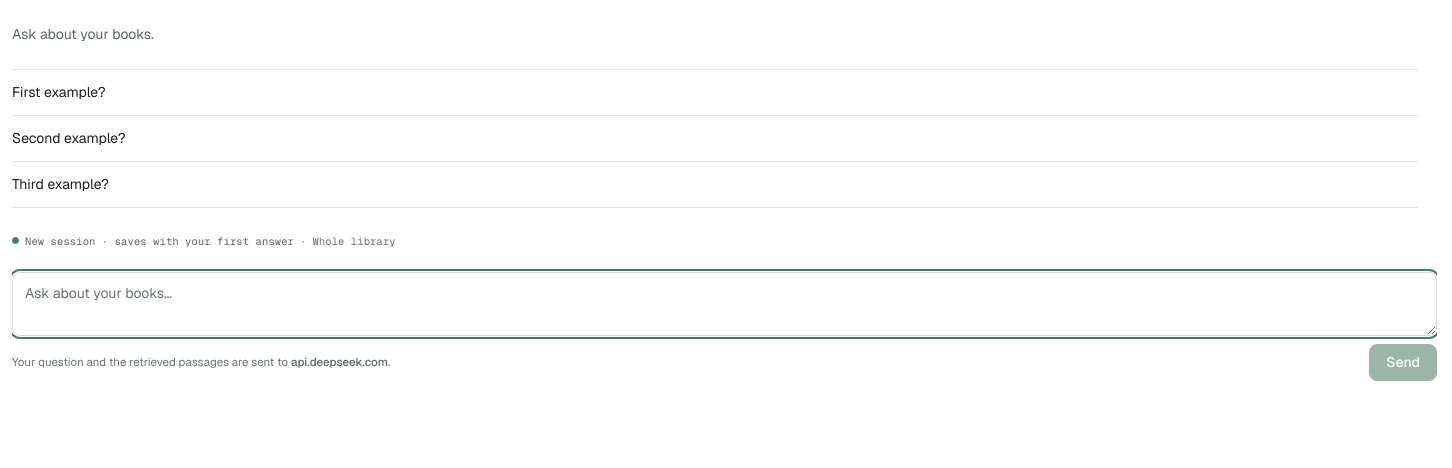
ChatPanel › shows an HTTP error from the server inline
The width and height of the screenshot is (1452, 468).
(page scrolled)
Type "Explain." into the text box named "Your question" at (724, 304), box [12,272,1437,336]
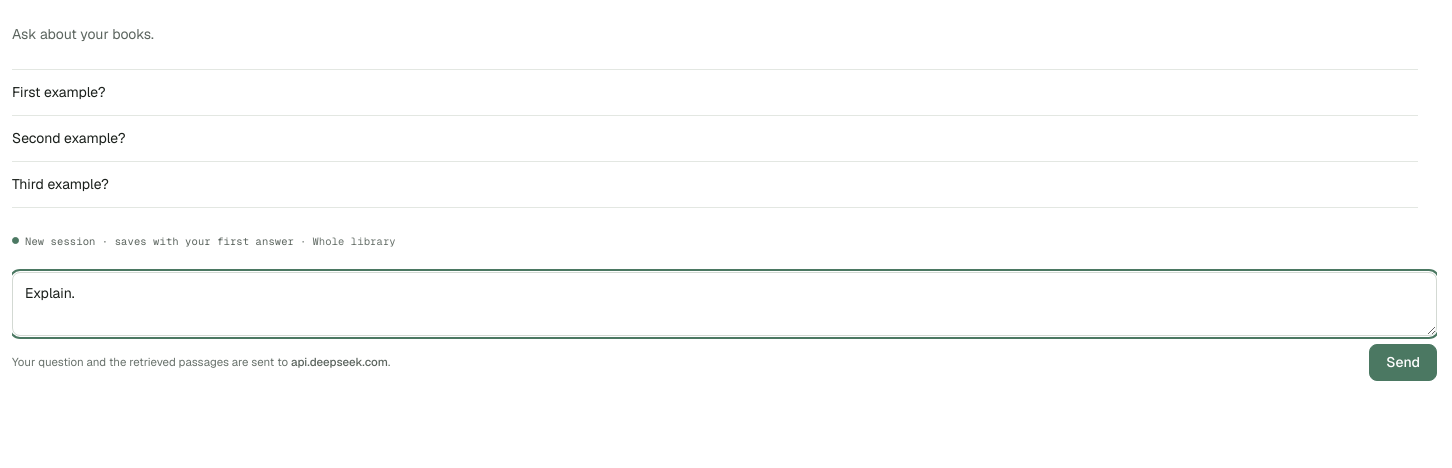
Click the button "Send" at (1403, 363), box [1369,344,1437,381]
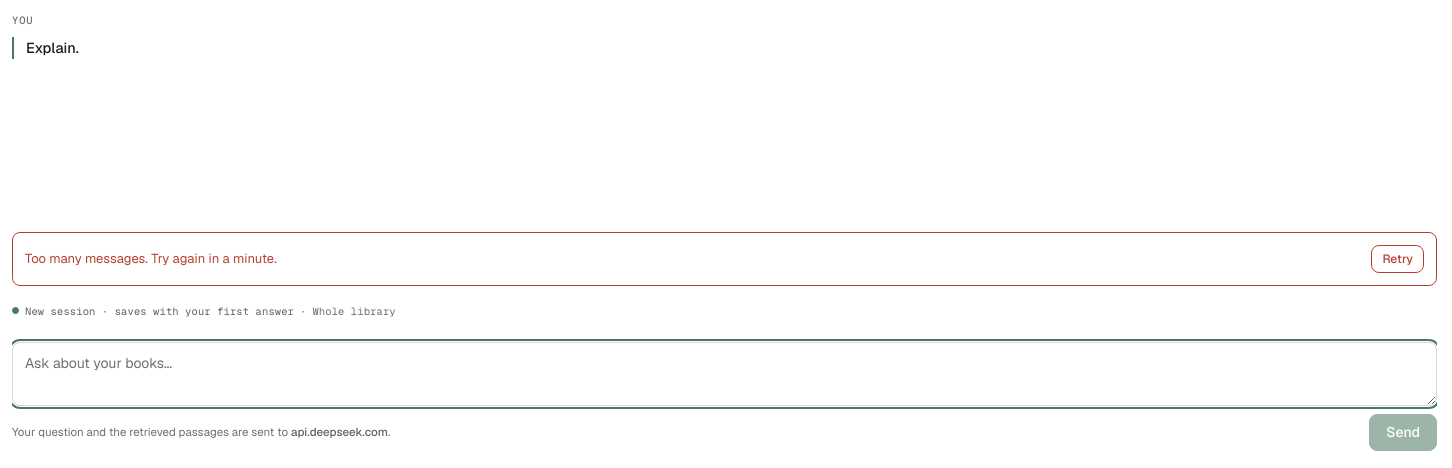
Expected: the message shows "Too many messages. Try again in a minute.", [25,250,277,267]
Expected: the button "Retry" is shown, [1371,244,1424,272]
